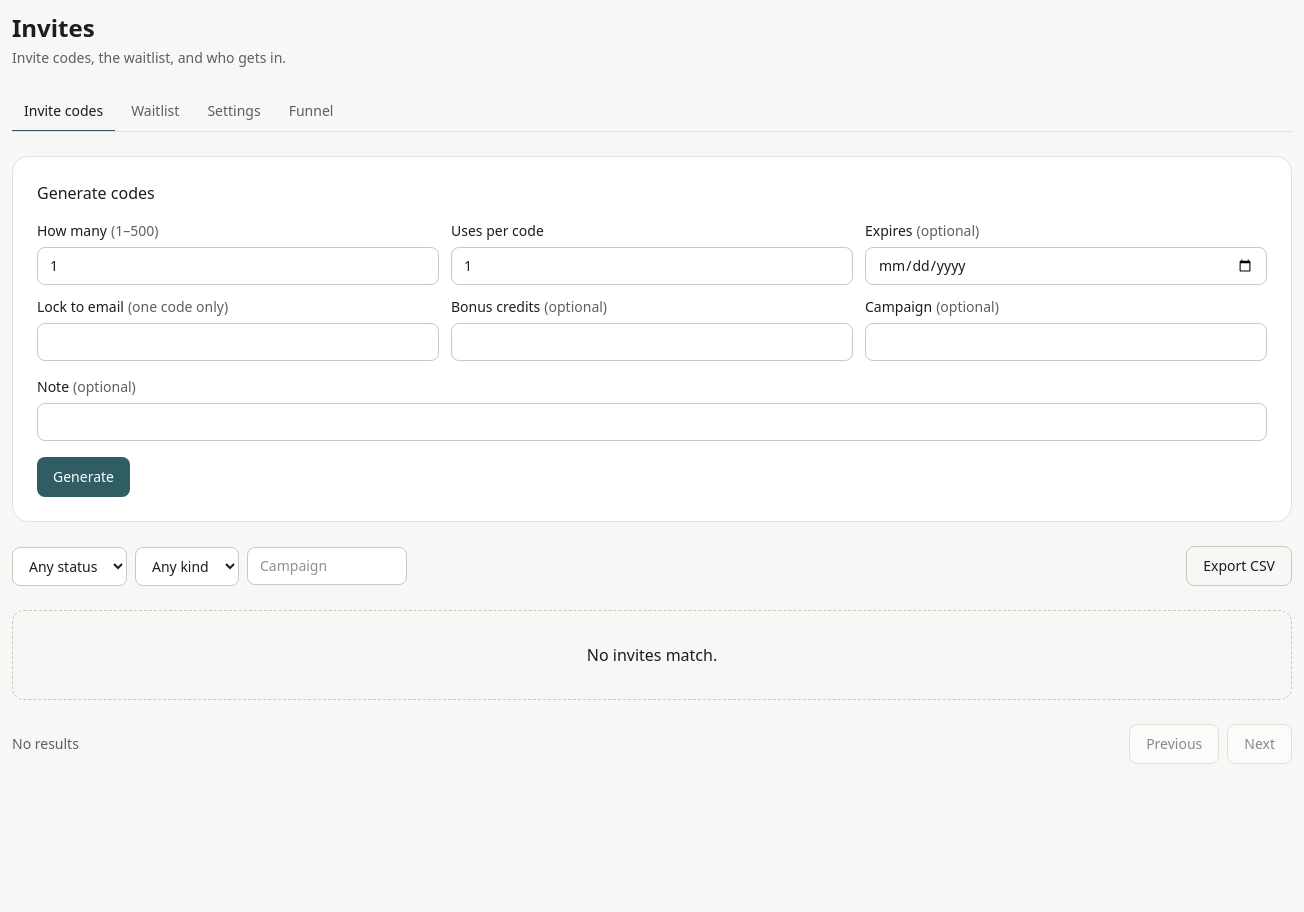
Test: invites › generates codes and shows them once
Replace the text in the number field labelled "How many(1–500)" with "2". click: (238, 266)
box: [37,247,439,285]
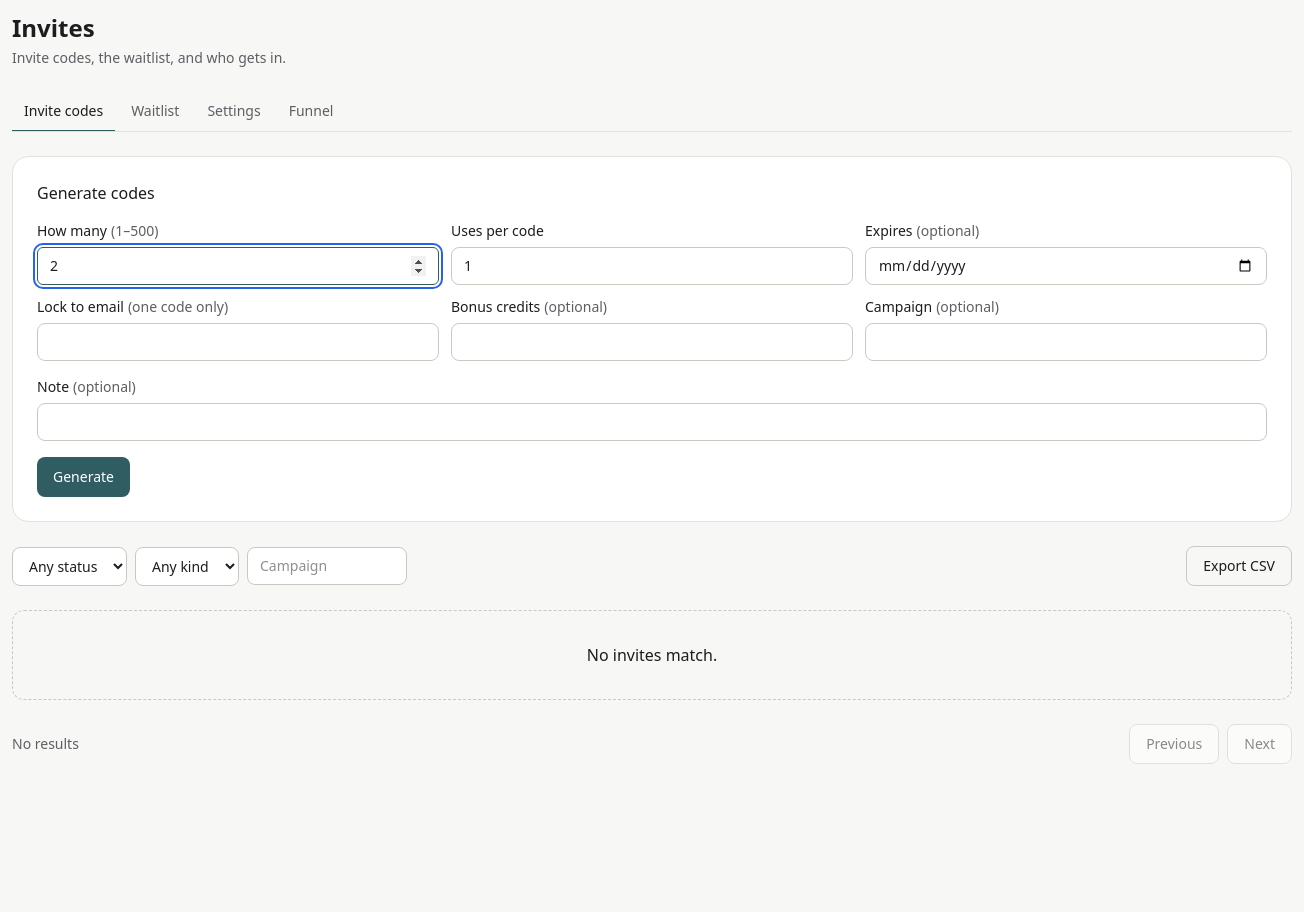
Type "launch" into the field labelled "Campaign(optional)". click: (1066, 342)
box: [865,323,1267,361]
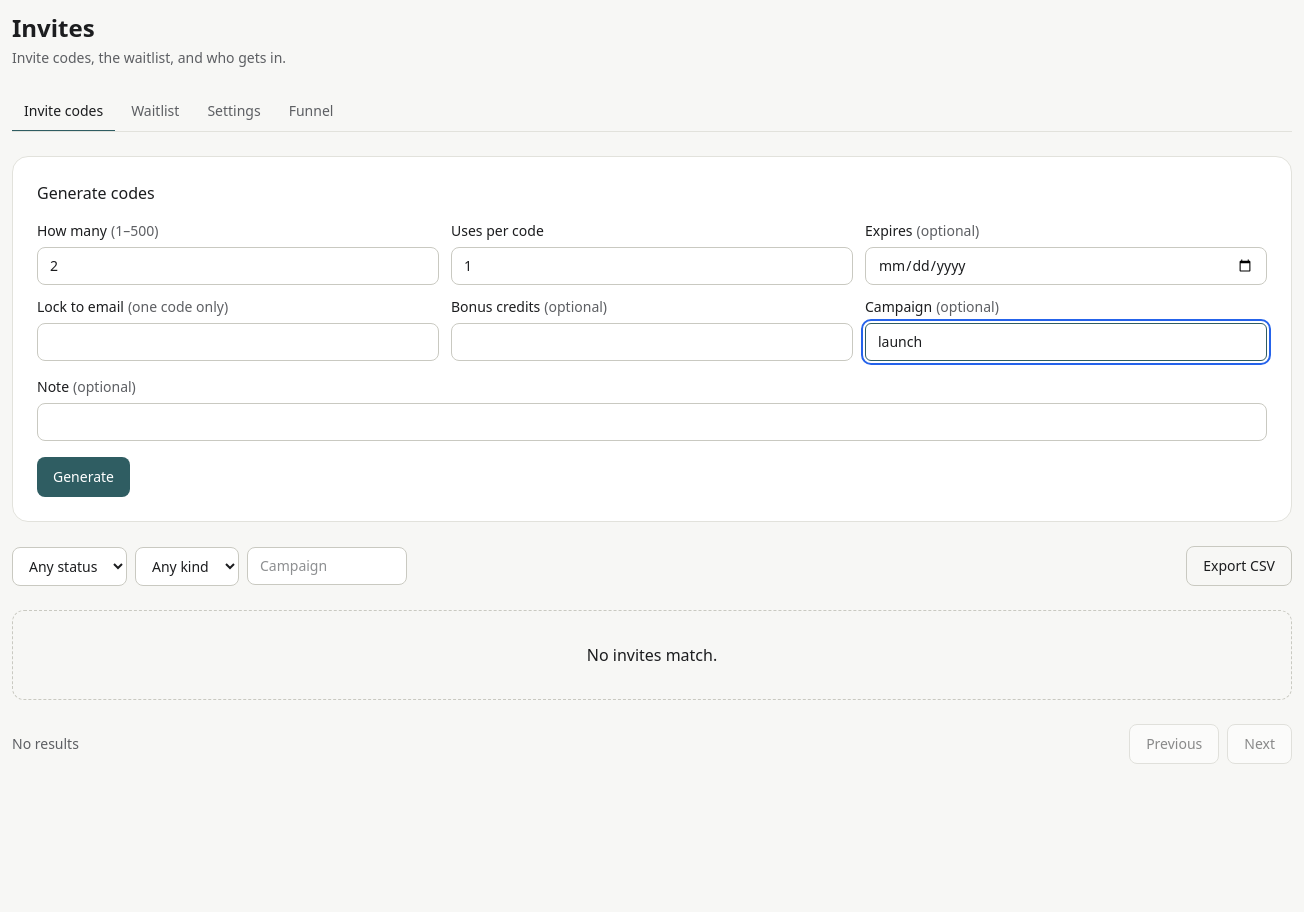
Click the button "Generate". click: (84, 477)
box: [37,457,130,497]
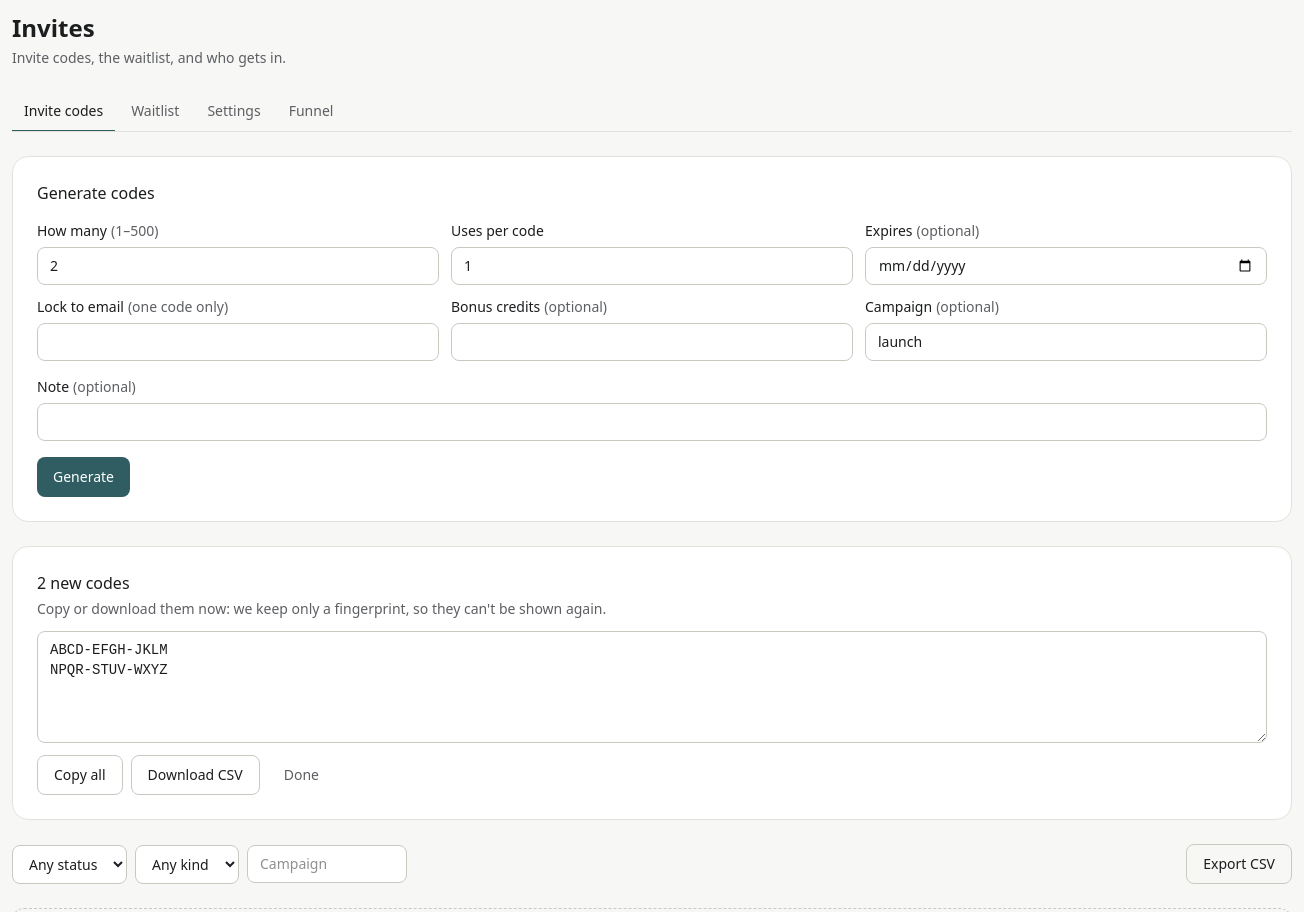
Now the text "can.t be shown again" is shown, box [37,599,606,618]
